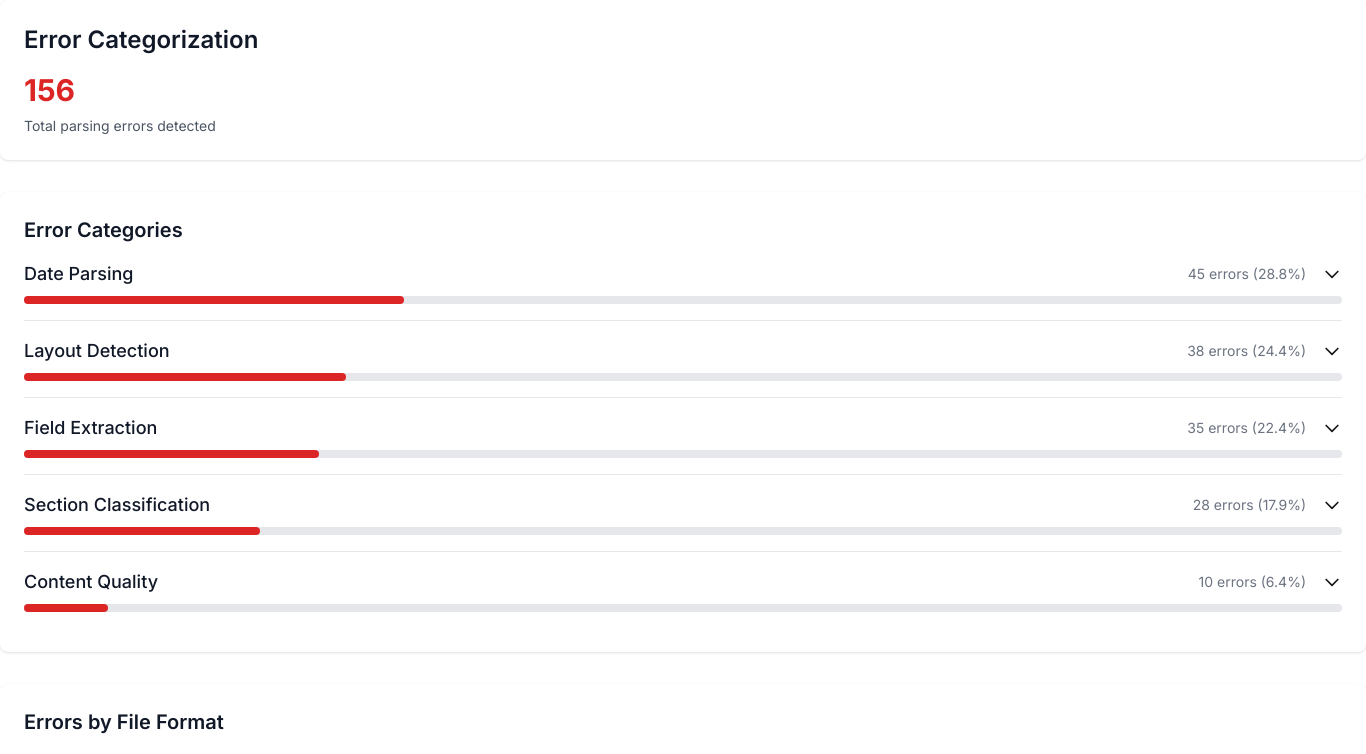
Scenario: ErrorCategorization › should collapse category when clicked again
The width and height of the screenshot is (1366, 754).
Expected: the text "Layout Detection" is shown, [24,337,170,365]
Click the button "Layout Detection 38 errors (24.4%)".
click(97, 350)  # box [24,337,1342,381]
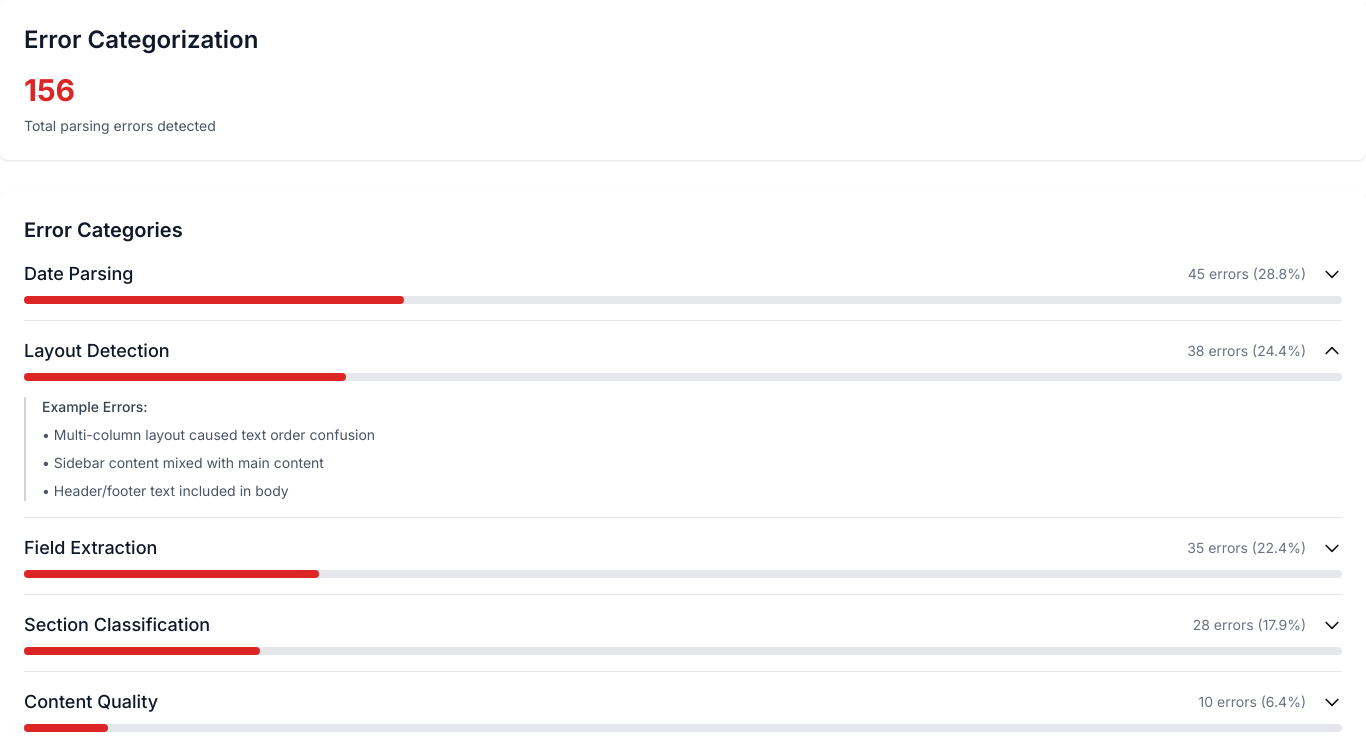
Now the heading "Example Errors:" is shown, box [42,398,148,415]
Click the button "Layout Detection 38 errors (24.4%)".
click(97, 350)  # box [24,337,1342,381]
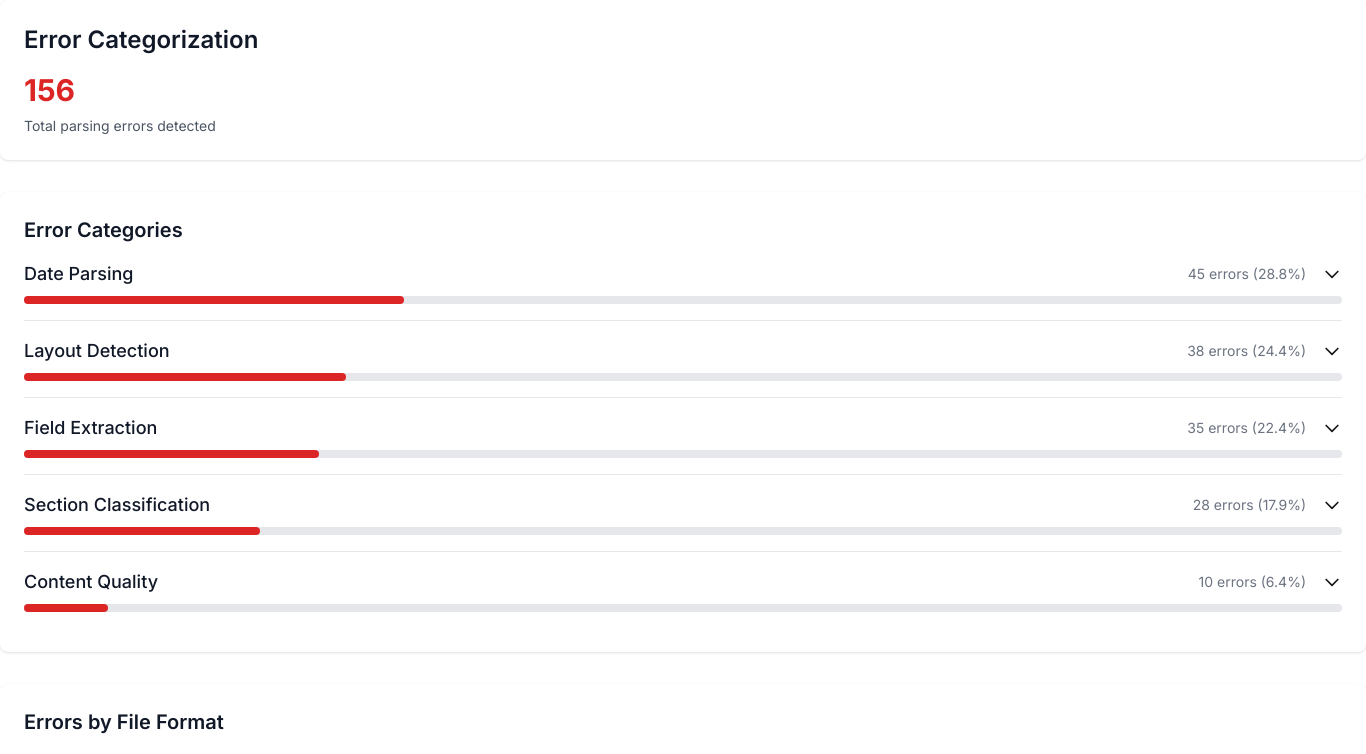
Now the heading "Example Errors:" is gone
